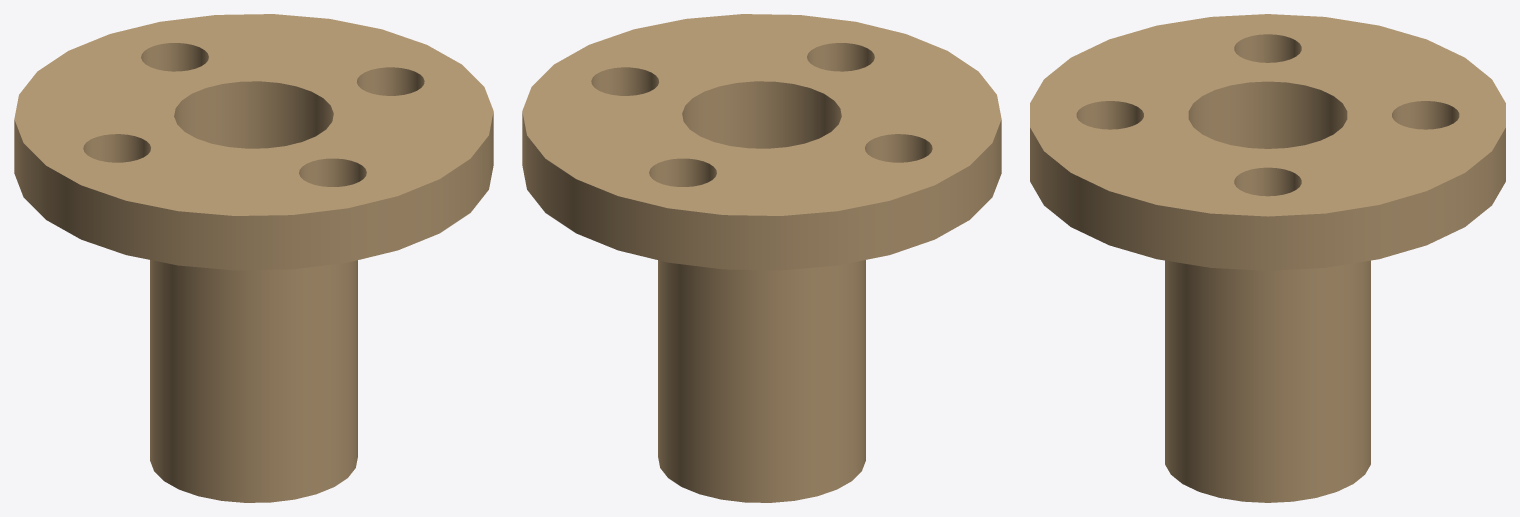
Rendered from motion-lead-screw-nut.glb.
3 renders of one model, left to right at view 1: azimuth 30°, elevation 25°; view 2: azimuth 150°, elevation 25°; view 3: azimuth 270°, elevation 25°, orthographic.
Size of the model in its own units: 0.024 by 0.019 by 0.0238.
